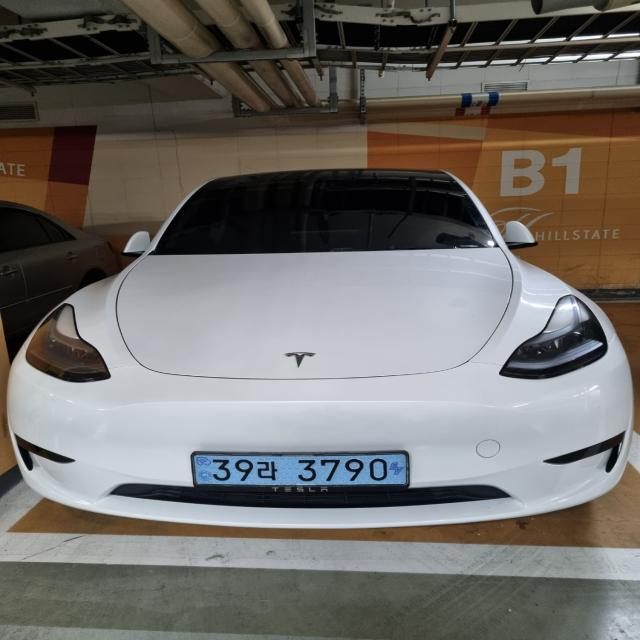car: (166, 439, 437, 508)
carev: (384, 450, 413, 490), (188, 451, 215, 492)
